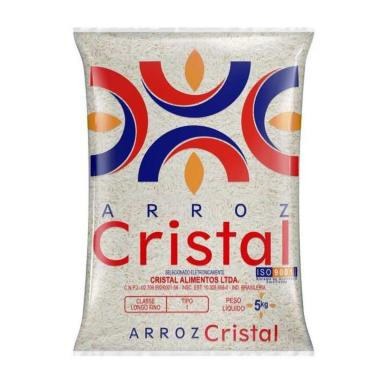rice package: (75, 30, 312, 354)
